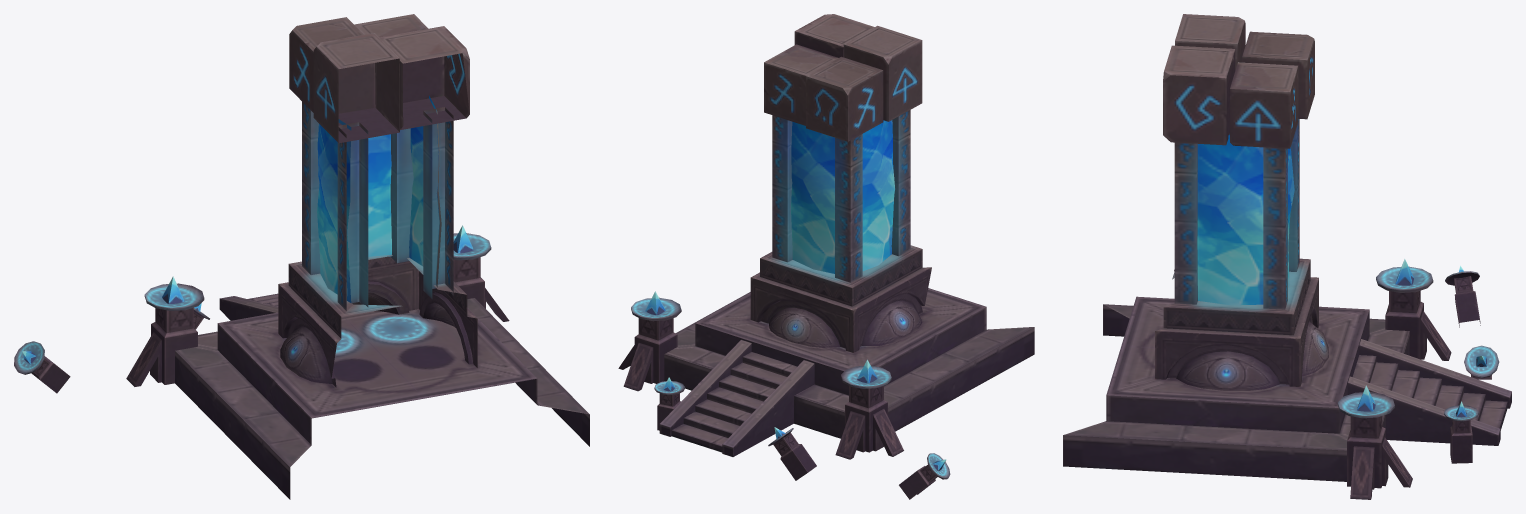
The model's file is area_04_shenzhu.FBX.
The picture shows the model from 3 angles, left to right: view 1: azimuth 30°, elevation 25°; view 2: azimuth 150°, elevation 25°; view 3: azimuth 270°, elevation 25°; orthographic projection. The views are drawn at different scales.
Parts seen in each view (by area): view 1: area_04_shenzhu; view 2: area_04_shenzhu; view 3: area_04_shenzhu.
Part boxes in pixels (bbox=[...]): area_04_shenzhu: bbox=[14, 14, 589, 499]; area_04_shenzhu: bbox=[618, 14, 1034, 499]; area_04_shenzhu: bbox=[1063, 14, 1511, 499].
Bounding box in the file's own units: 1691 × 1477 × 1568.
